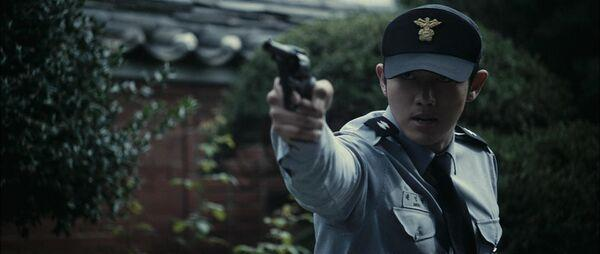Gun: (263, 38, 316, 106)
